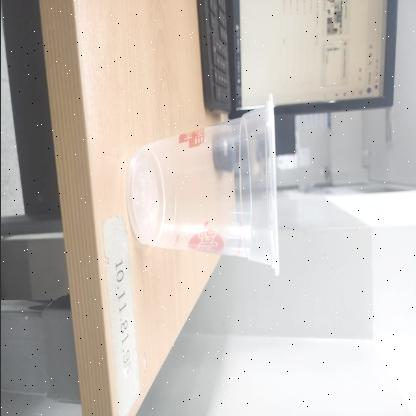Others: (126, 92, 280, 276)
